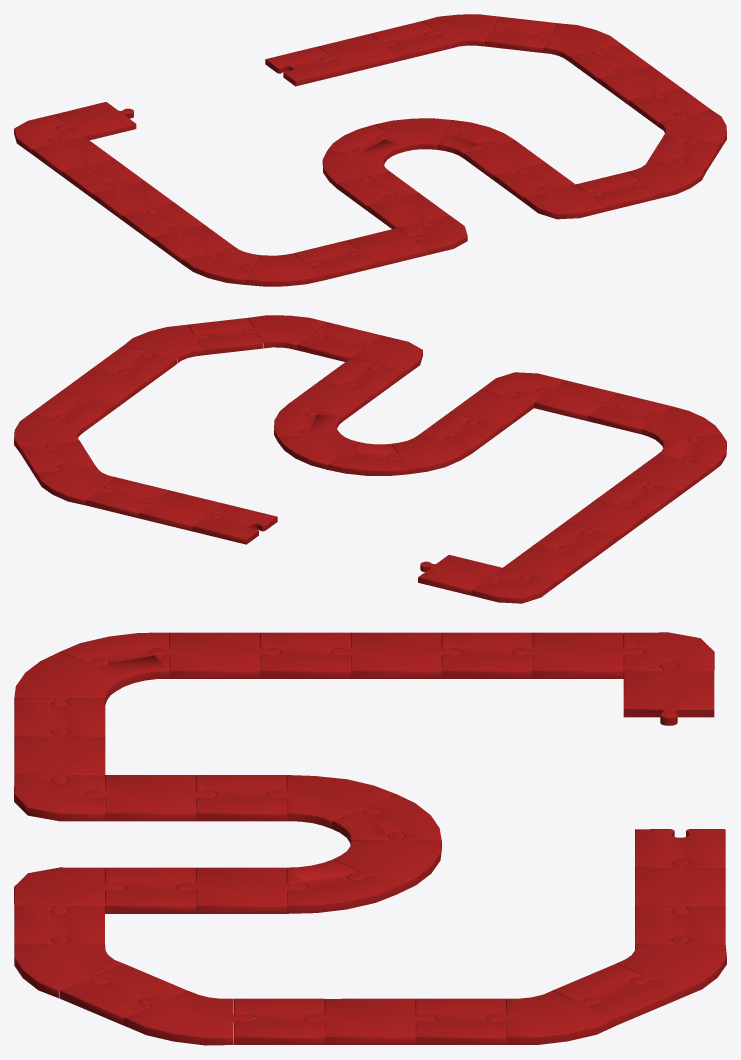
The model's file is TRACK puzzle.obj.
3 views of the same model, one above another, from view 1: azimuth 30°, elevation 25°; view 2: azimuth 150°, elevation 25°; view 3: azimuth 270°, elevation 25° (orthographic). The views are drawn at different scales.
Parts seen in each view (by area): view 1: TRACK; view 2: TRACK; view 3: TRACK.
Part boxes in pixels (box(x1,y1,x2,y2)): TRACK: box(14, 14, 726, 286); TRACK: box(14, 315, 726, 603); TRACK: box(14, 632, 726, 1045).
Size of the model in its own units: 6232 by 59.06 by 4635.
